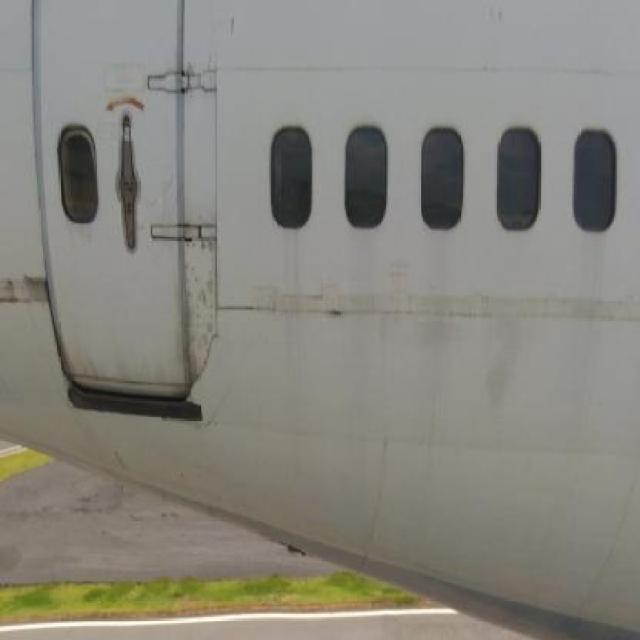Rust: (277, 222, 309, 407), (176, 41, 198, 128)
Scartch: (162, 191, 230, 400), (1, 260, 56, 322)
